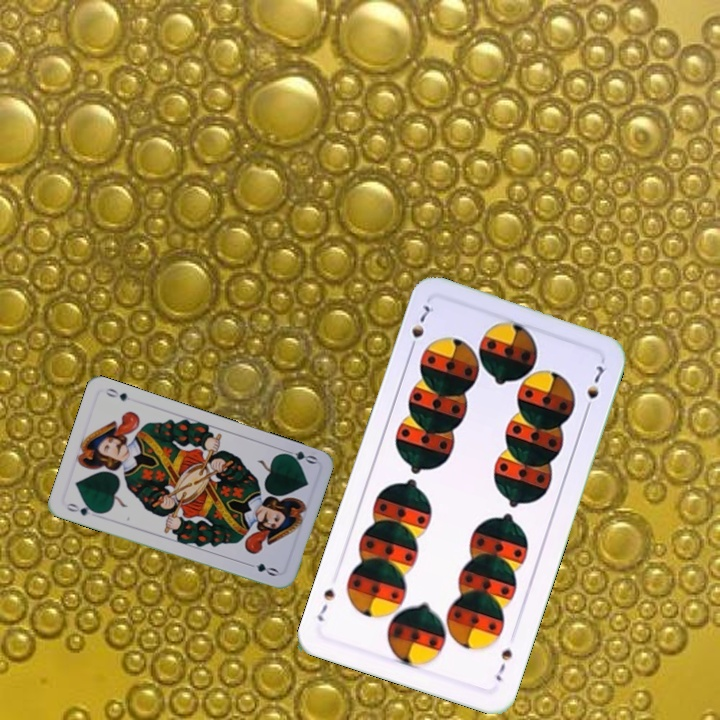GO: (278, 445, 319, 467), (62, 499, 102, 518)
S7: (405, 301, 437, 355), (491, 645, 515, 684)
